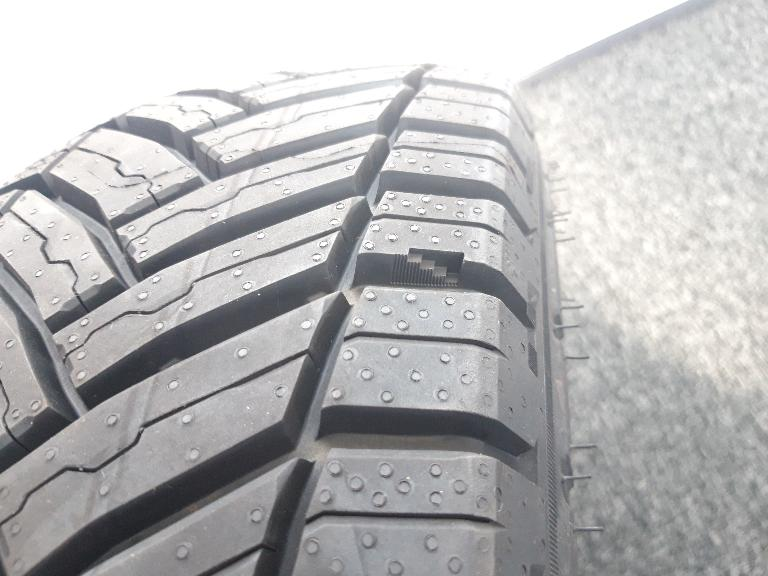temoin:100: (389, 246, 466, 289)
